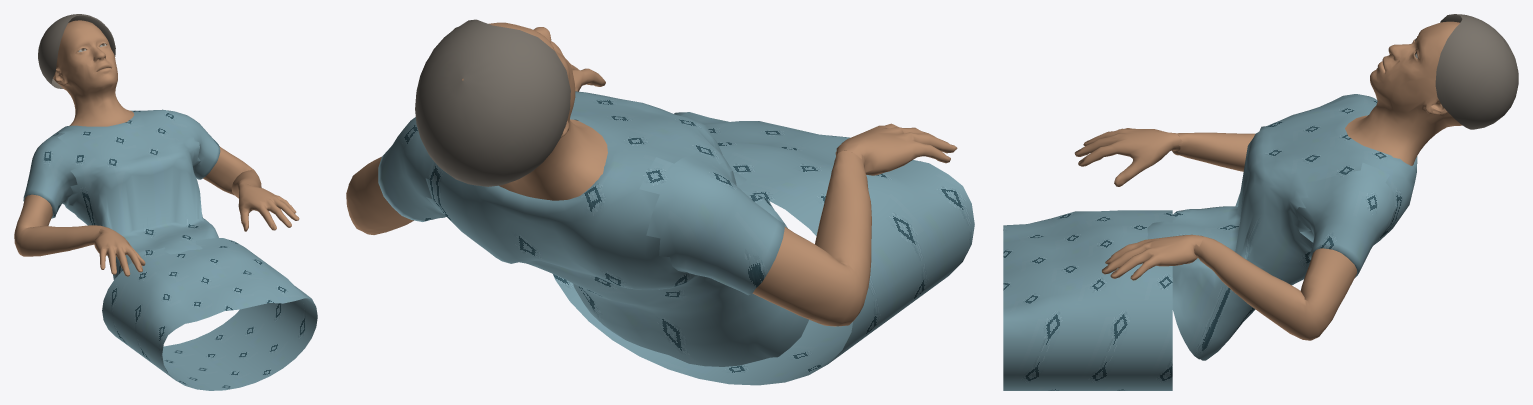
File: icu-patient-01-hero.glb
3 renders of one model, left to right at view 1: azimuth 30°, elevation 25°; view 2: azimuth 150°, elevation 25°; view 3: azimuth 270°, elevation 25°, orthographic. The views are drawn at different scales.
Visible parts, largest first — view 1: Reclining ICU patient; view 2: Reclining ICU patient; view 3: Reclining ICU patient.
Part boxes in pixels (left/top/right/bottom): Reclining ICU patient: left=14, top=14, right=317, bottom=390; Reclining ICU patient: left=346, top=19, right=974, bottom=385; Reclining ICU patient: left=1003, top=14, right=1518, bottom=390.
Size of the model in its own units: 0.7486 by 0.7247 by 0.9546.
Materials: 2 (1 with a texture image).
